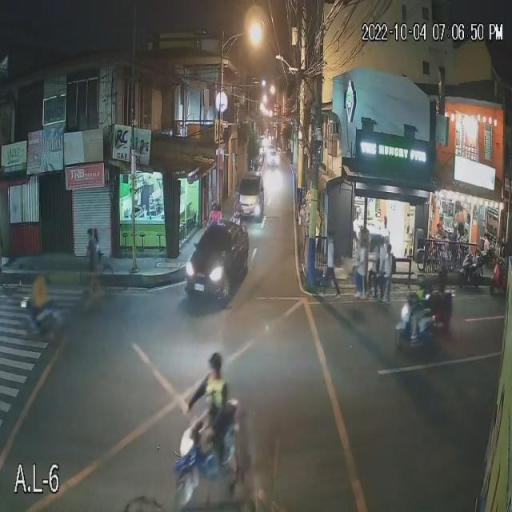helmet: (206, 352, 224, 370), (408, 276, 424, 292)
motorcycle: (173, 397, 247, 511), (394, 288, 450, 357), (20, 294, 67, 340), (457, 245, 487, 286), (490, 252, 509, 297)
rider: (184, 352, 235, 465), (400, 278, 432, 339), (26, 269, 52, 328), (428, 270, 453, 326)
